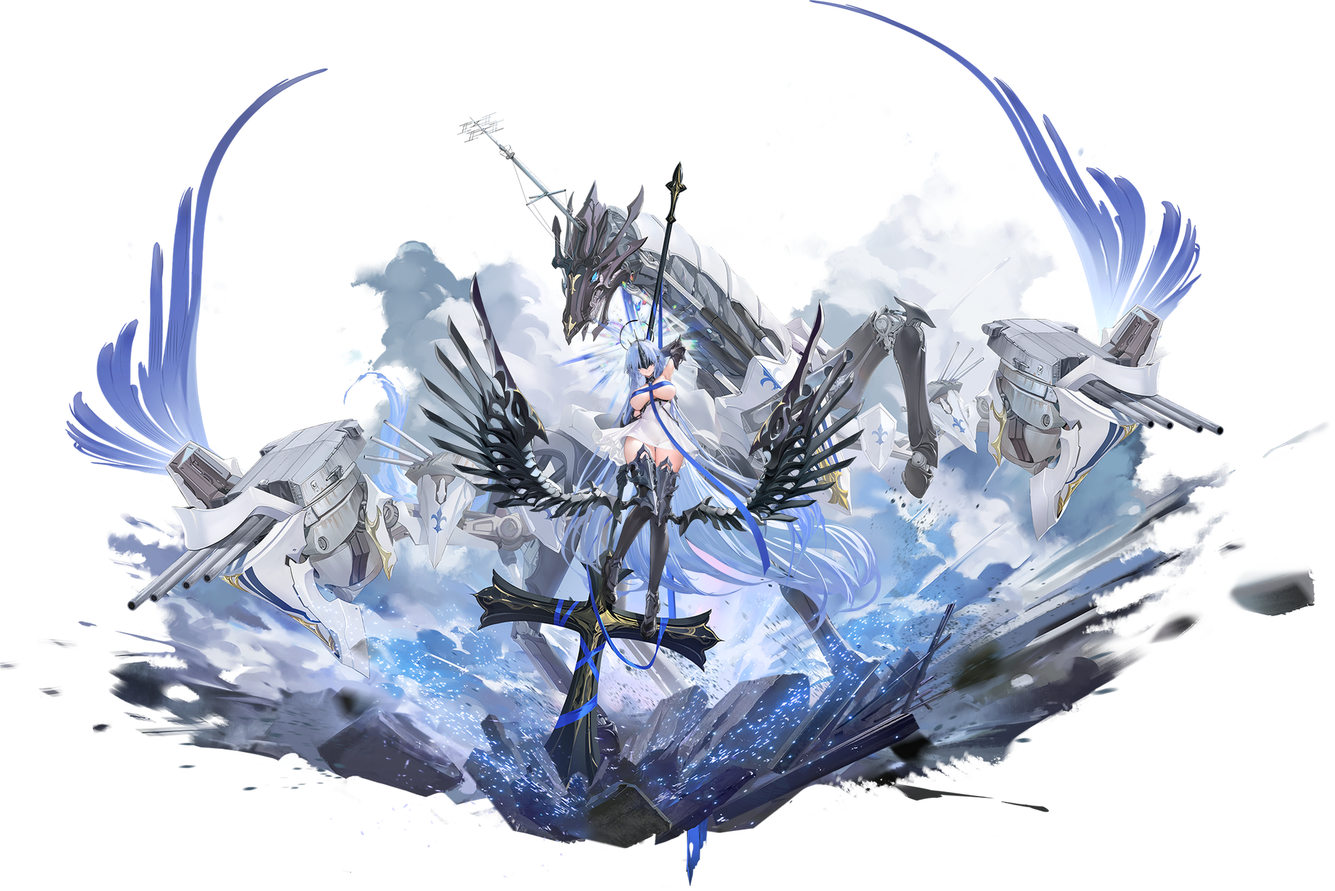person: (502, 231, 766, 733)
